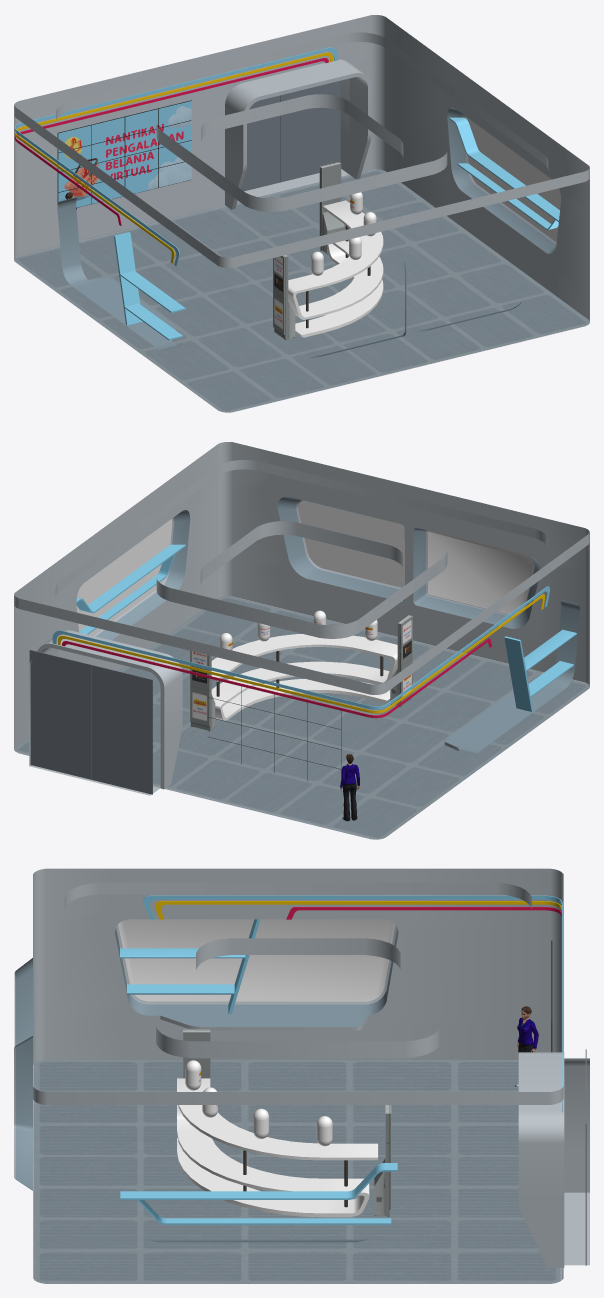
File: Mili-Store.gltf
3 renders of one model, top to bottom at view 1: azimuth 30°, elevation 25°; view 2: azimuth 150°, elevation 25°; view 3: azimuth 270°, elevation 25°, orthographic. The views are drawn at different scales.
Parts seen in each view (by area): view 1: Box007, Plafon, LED, Line064, Line031, Pintu 01, etalase kanan, Pintu 02, etalase kiri, Object001, Object002, Mesh002 (+2 smaller); view 2: Box007, Plafon, Pintu 01, Pintu 02, Line064, Line031, etalase kanan, etalase kiri, Object001, Object002, Mesh1 (1), Object003 (+3 smaller); view 3: Box007, Plafon, Line064, Line031, etalase kiri, etalase kanan, Object001, Object002, Mesh1 (1), Object003, casual02_f_1_1, Mesh002.
Part boxes in pixels (x1,y1,x2,y2): Box007: (14, 15, 589, 412); Plafon: (14, 32, 589, 267); LED: (57, 100, 191, 207); Line064: (288, 200, 383, 337); Line031: (225, 59, 371, 209); Pintu 01: (280, 80, 340, 182); etalase kanan: (114, 232, 185, 340); Pintu 02: (241, 95, 279, 191); etalase kiri: (449, 117, 559, 229); Object001: (14, 47, 337, 266); Object002: (14, 52, 333, 263); Mesh002: (273, 255, 295, 339); Box007: (14, 442, 589, 839); Plafon: (14, 460, 589, 694); Pintu 01: (29, 650, 91, 779); Pintu 02: (91, 665, 152, 794); Line064: (211, 634, 397, 720); Line031: (37, 630, 182, 789); etalase kanan: (504, 629, 576, 713); etalase kiri: (76, 544, 185, 634); Object001: (52, 586, 549, 709); Object002: (57, 594, 545, 713); Mesh1 (1): (190, 651, 215, 731); Object003: (62, 638, 491, 718); Box007: (14, 868, 589, 1283); Plafon: (33, 882, 563, 1104); Line064: (177, 1078, 378, 1217); Line031: (518, 1052, 564, 1267); etalase kiri: (120, 1163, 397, 1224); etalase kanan: (120, 919, 260, 1014); Object001: (143, 895, 562, 1112); Object002: (155, 901, 561, 919); Mesh1 (1): (374, 1105, 391, 1216); Object003: (286, 907, 561, 919); casual02_f_1_1: (515, 1006, 538, 1086); Mesh002: (183, 1029, 210, 1078).
Bounding box in the file's own units: 10.89 × 4.01 × 10.86.
35 materials, 21 textured.
